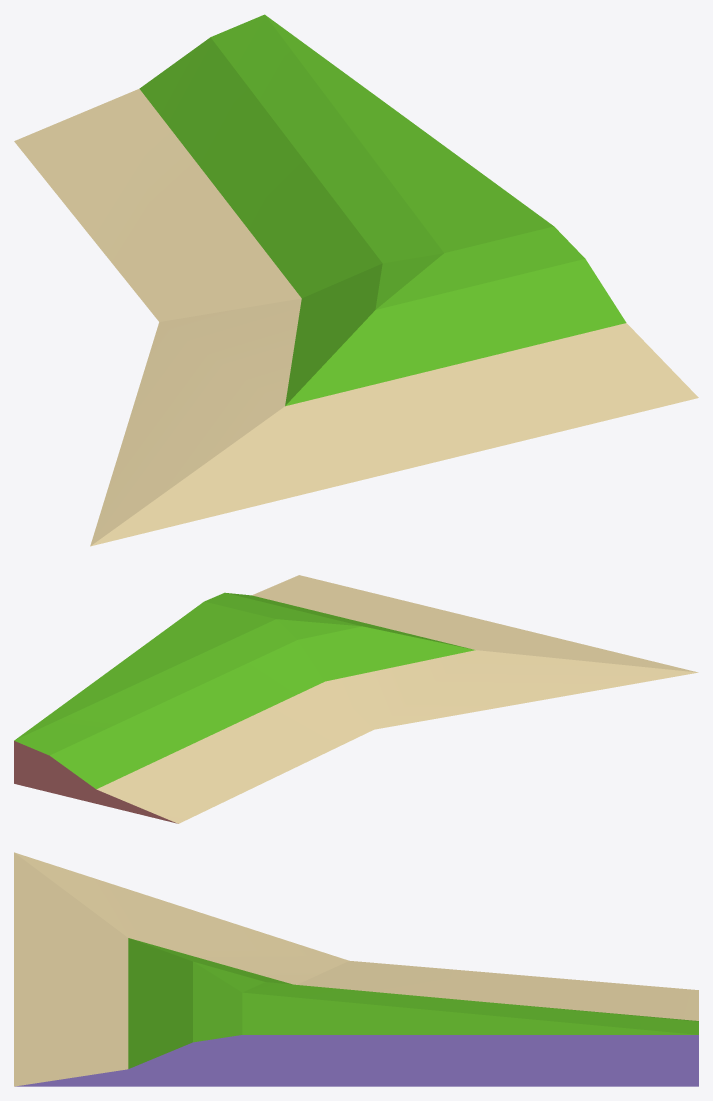
The model's file is Path_Terrain_Y_Curve_Inner_2x3.glb.
3 renders of one model, top to bottom at view 1: azimuth 30°, elevation 25°; view 2: azimuth 150°, elevation 25°; view 3: azimuth 270°, elevation 25°, orthographic. The views are drawn at different scales.
Visible parts, largest first — view 1: Path_Terrain_Y_Curve_Inner_2x3; view 2: Path_Terrain_Y_Curve_Inner_2x3; view 3: Path_Terrain_Y_Curve_Inner_2x3.
Boxes of the visible parts, box(x1,y1,x2,y2) form: Path_Terrain_Y_Curve_Inner_2x3: box(14, 14, 698, 546); Path_Terrain_Y_Curve_Inner_2x3: box(14, 575, 698, 823); Path_Terrain_Y_Curve_Inner_2x3: box(14, 852, 698, 1086).
Size of the model in its own units: 243 by 25 by 300.
